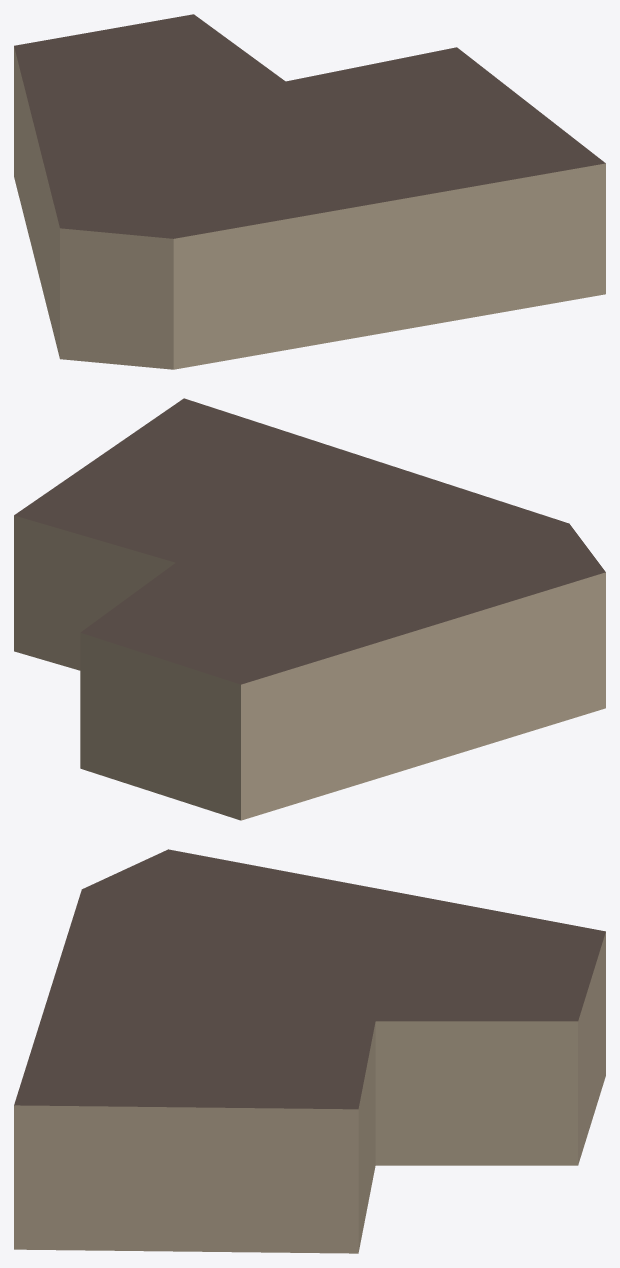
3 views of the same model, one above another, from view 1: azimuth 30°, elevation 25°; view 2: azimuth 150°, elevation 25°; view 3: azimuth 270°, elevation 25° (orthographic). The views are drawn at different scales.
Visible parts, largest first — view 1: HP-w1515071145; view 2: HP-w1515071145; view 3: HP-w1515071145.
Boxes of the visible parts, x1,y1,x2,y2 form: HP-w1515071145: (14,14,605,369); HP-w1515071145: (14,398,605,820); HP-w1515071145: (14,849,605,1253).
Bounding box in the file's own units: 34.78 × 9 × 33.47.
